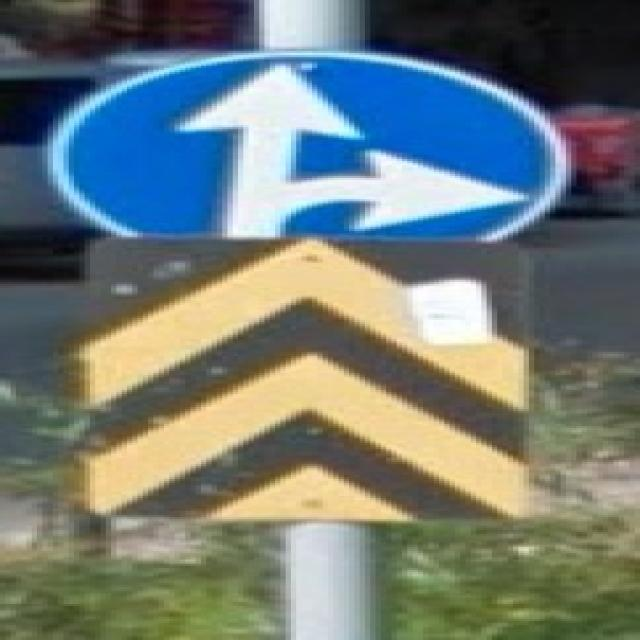Straight or Right: (54, 52, 556, 240)
